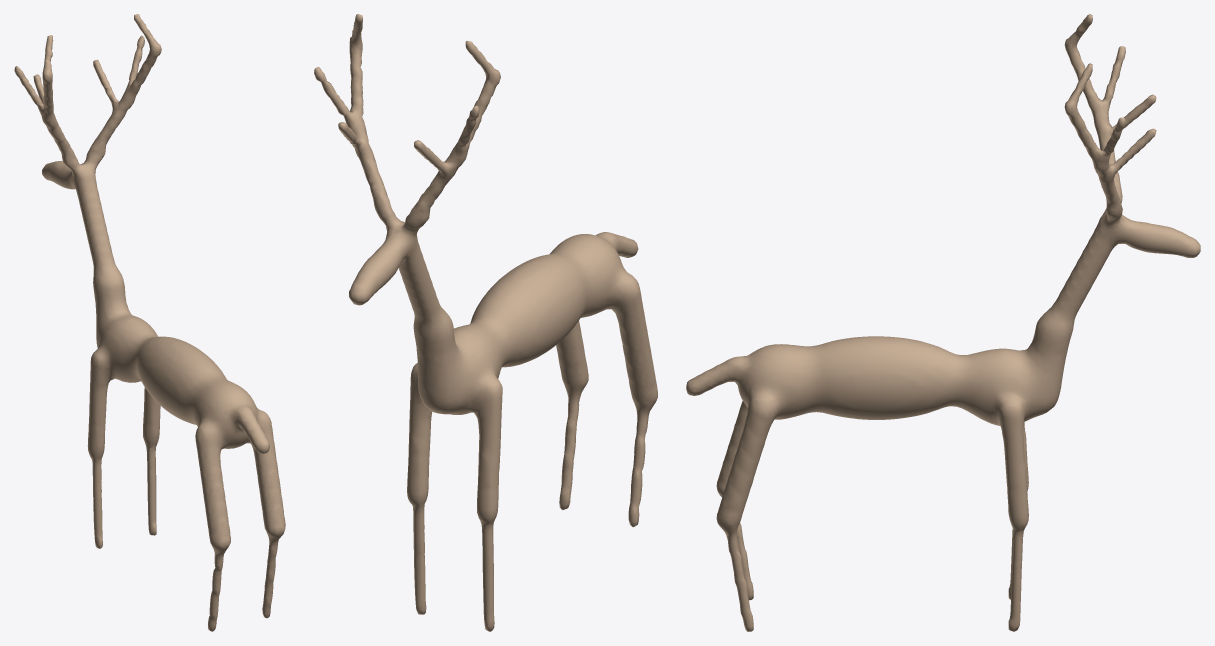
File: deer.glb
3 views of the same model, side by side, from view 1: azimuth 30°, elevation 25°; view 2: azimuth 150°, elevation 25°; view 3: azimuth 270°, elevation 25° (orthographic). The views are drawn at different scales.
Visible parts, largest first — view 1: Deer; view 2: Deer; view 3: Deer.
Boxes of the visible parts, x1,y1,x2,y2 form: Deer: (14,14,285,631); Deer: (314,14,657,631); Deer: (686,14,1200,631).
Size of the model in its own units: 0.6577 by 2.41 by 1.95.
